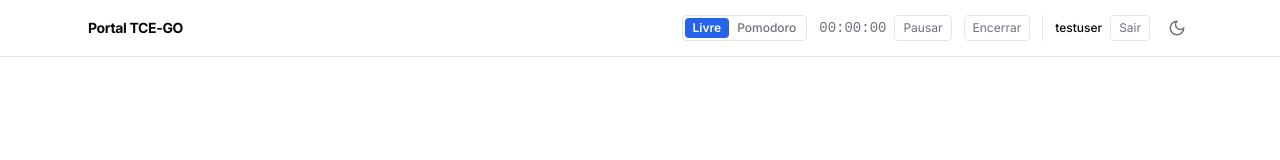
Header Component › switches between Livre and Pomodoro modes @spec:AC-062
Expected: the text "00:00:00" is shown, left=819, top=18, right=886, bottom=38
// Clica para alternar para Pomodoro
Click the button "Pomodoro" at (767, 28), box left=729, top=18, right=804, bottom=38
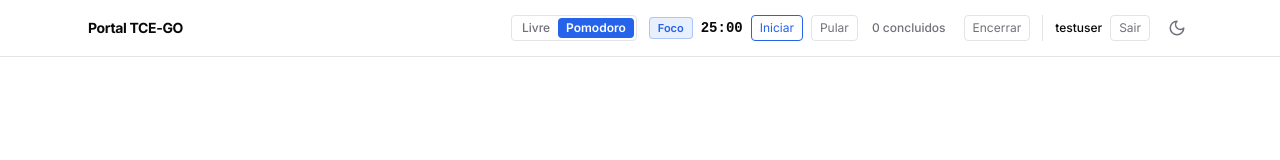
Now the text "25:00" is shown, box left=701, top=18, right=743, bottom=38
Now the text "Foco" is shown, box left=649, top=17, right=693, bottom=39
